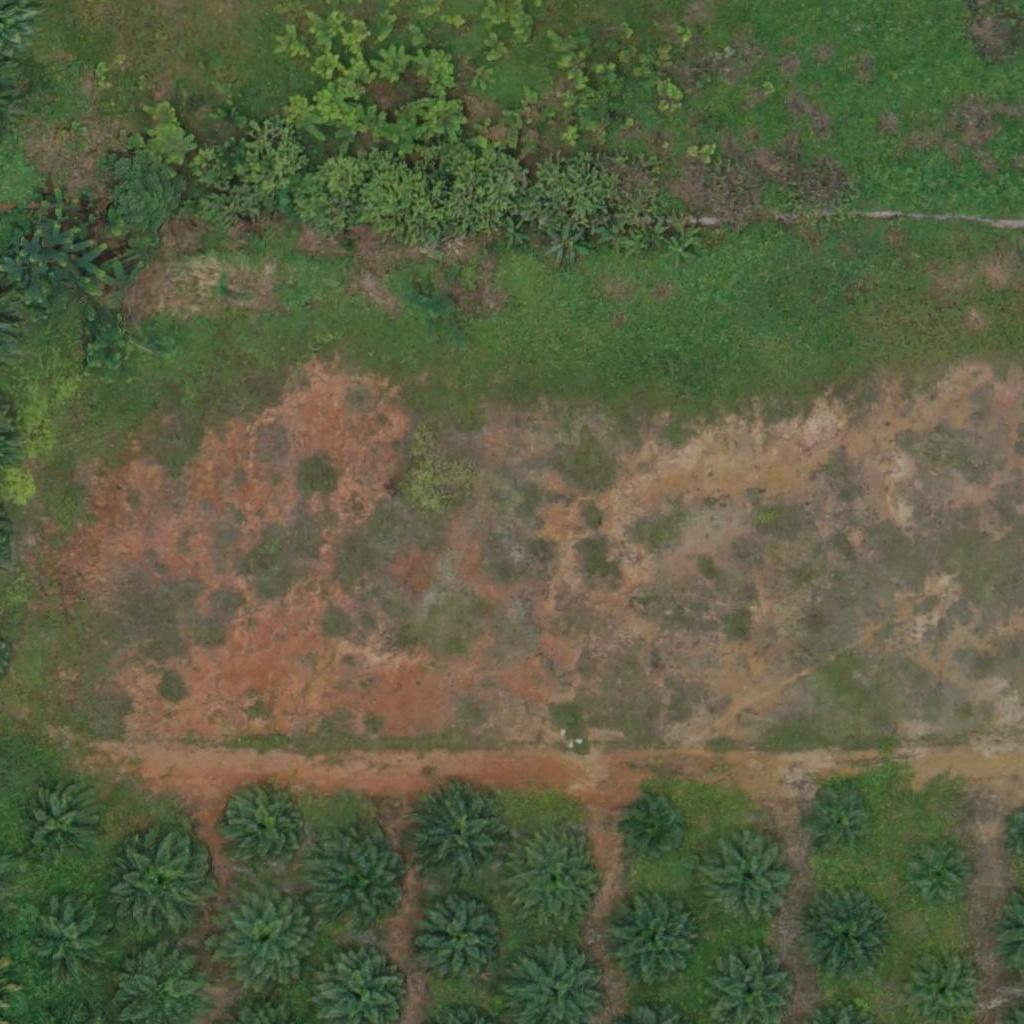Kelapa_Sawit: (210, 883, 323, 997), (405, 780, 517, 893), (313, 835, 413, 936), (414, 894, 514, 995), (507, 832, 607, 933), (603, 890, 703, 991), (700, 828, 800, 929), (109, 835, 209, 935), (16, 780, 104, 868), (802, 895, 890, 983), (32, 900, 119, 988), (217, 783, 304, 871), (809, 791, 872, 854), (906, 838, 969, 901), (626, 793, 689, 856)
